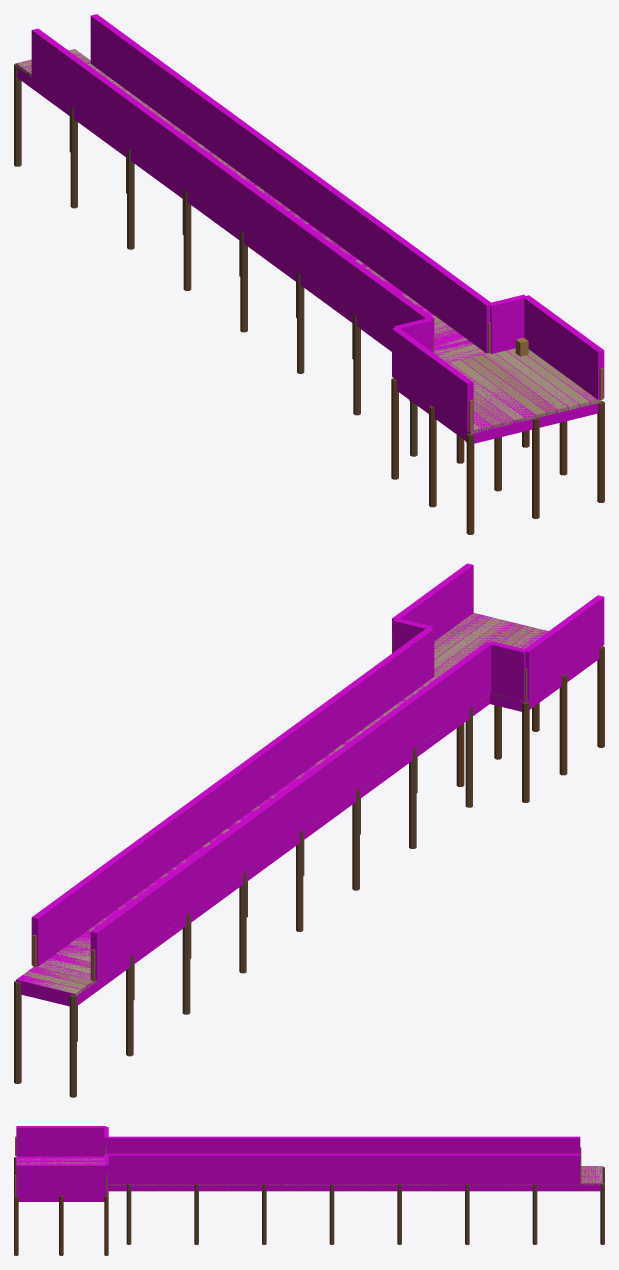
Rendered from boardwalk.glb.
The picture shows the model from 3 angles, top to bottom: view 1: azimuth 30°, elevation 25°; view 2: azimuth 150°, elevation 25°; view 3: azimuth 270°, elevation 25°; orthographic projection. The views are drawn at different scales.
Parts seen in each view (by area): view 1: COLP_boardwalk, boardwalk, COL_boardwalk; view 2: COLP_boardwalk, boardwalk, COL_boardwalk; view 3: COLP_boardwalk, COL_boardwalk, boardwalk.
Part boxes in pixels (box(x1,y1,x2,y2)): COLP_boardwalk: box(31, 14, 604, 431); boardwalk: box(14, 49, 604, 534); COL_boardwalk: box(16, 49, 601, 443); COLP_boardwalk: box(31, 563, 604, 980); boardwalk: box(14, 613, 604, 1097); COL_boardwalk: box(16, 613, 600, 1006); COLP_boardwalk: box(16, 1126, 580, 1194); COL_boardwalk: box(16, 1156, 602, 1201); boardwalk: box(14, 1136, 604, 1255).
Bounding box in the file's own units: 4.2 × 4.4 × 26.2.
